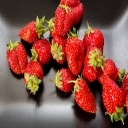strawberry: (102, 75, 126, 125), (63, 35, 87, 76), (71, 78, 96, 114), (21, 57, 44, 94), (5, 39, 27, 77), (50, 34, 72, 64), (54, 68, 75, 95)
